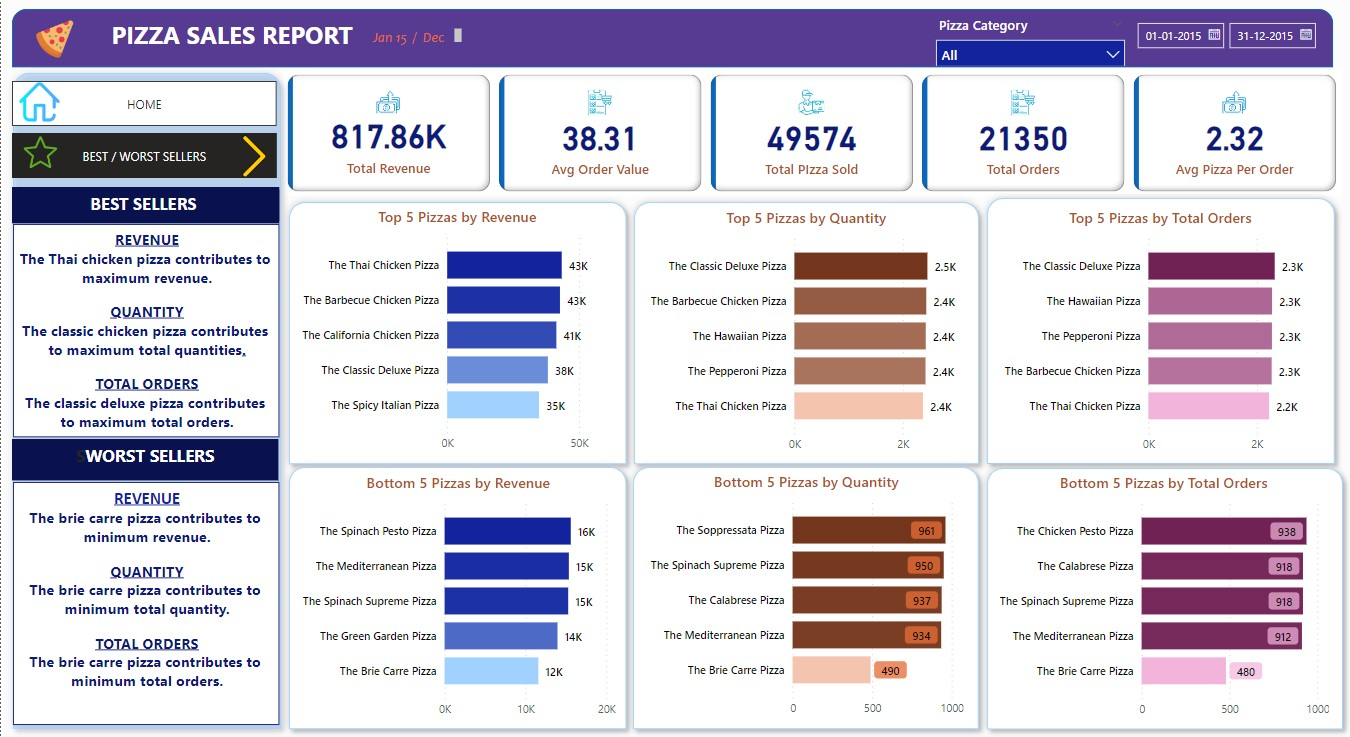

This screenshot's page, from the dashboard's own definition file:
{"tool":"powerbi","page":{"name":"BEST / WORST SELLERS ","canvas":[1500,820],"ordinal":1},"visuals":[{"type":"cardVisual","fields":{"Data":["pizza_sales.Total Revenue","pizza_sales.Avg Order Value","pizza_sales.Total PIzza Sold","pizza_sales.Total Orders","pizza_sales.Avg Pizza Per Order"]},"box":[313.4,77.3,1177.3,140.2],"z":0},{"type":"shape","box":[12.4,10.3,1468,64.9],"z":1000},{"type":"textbox","box":[118,14,345,55],"z":2000},{"type":"textbox","box":[408,27,109,32],"z":3000},{"type":"image","box":[30.9,16.5,56.7,52.6],"z":4000},{"type":"shape","box":[311.3,215.5,392.8,309.3],"z":5000},{"type":"shape","box":[4.1,72.2,315.5,746.4],"z":6000},{"type":"textbox","box":[12.4,211.3,296.9,37.1],"z":7000},{"type":"textbox","box":[13.4,248.5,295.9,237.1],"z":8000},{"type":"textbox","box":[12.4,487.6,295.9,46.4],"z":9000},{"type":"textbox","box":[12.4,208.2,296.9,37.1],"z":10000},{"type":"textbox","box":[13.4,535.1,295.9,270.1],"z":11000},{"type":"slicer","fields":{"Values":["pizza_sales.pizza_category"]},"box":[1029,12,230,61],"z":12000},{"type":"slicer","fields":{"Values":["pizza_sales.order_date"]},"box":[1250,16,218,53],"z":13000},{"type":"shape","box":[694.8,215.5,401,309.3],"z":14000},{"type":"shape","box":[1086.6,211.3,404.1,313.4],"z":15000},{"type":"shape","box":[311.3,510.3,392.8,309.3],"z":16000},{"type":"shape","box":[693.8,510.3,402.1,309.3],"z":17000},{"type":"shape","box":[1086.6,511.3,413.4,308.2],"z":18000},{"type":"barChart","title":"Top 5 Pizzas by Revenue","fields":{"Category":["pizza_sales.pizza_name"],"Y":["pizza_sales.Total Revenue"]},"box":[327.8,229.9,358.8,280.4],"z":19000},{"type":"barChart","title":"Bottom 5 Pizzas by Revenue","fields":{"Category":["pizza_sales.pizza_name"],"Y":["pizza_sales.Total Revenue"]},"box":[328.9,525.8,358.8,280.4],"z":20000},{"type":"barChart","title":"Top 5 Pizzas by Quantity","fields":{"Category":["pizza_sales.pizza_name"],"Y":["pizza_sales.Total PIzza Sold"]},"box":[715.5,230.9,358.8,280.4],"z":21000},{"type":"barChart","title":"Bottom 5 Pizzas by Quantity","fields":{"Category":["pizza_sales.pizza_name"],"Y":["pizza_sales.Total PIzza Sold"]},"box":[715.5,524.7,358.8,280.4],"z":22000},{"type":"barChart","title":"Top 5 Pizzas by Total Orders","fields":{"Category":["pizza_sales.pizza_name"],"Y":["pizza_sales.Total Orders"]},"box":[1109.3,230.9,358.8,280.4],"z":23000},{"type":"barChart","title":"Bottom 5 Pizzas by Total Orders","fields":{"Category":["pizza_sales.pizza_name"],"Y":["pizza_sales.Total Orders"]},"box":[1103.1,525.8,377.3,280.4],"z":24000},{"type":"pageNavigator","box":[12.4,147.4,294.8,50.5],"z":25000},{"type":"pageNavigator","box":[12.4,89.7,294.8,50.5],"z":26000},{"type":"image","box":[253.6,145.4,55.7,55.7],"z":27000},{"type":"image","box":[13.4,145.4,59.8,47.4],"z":28000},{"type":"image","box":[12.4,85.6,60.8,54.6],"z":29000}]}

Visuals, with their boxes in screenshot pixels (x1, y1, x2, y2), scaled from the page's 1500x820 canvas onto the 1350x737 screenshot:
cardVisual - pizza_sales.Total Revenue x pizza_sales.Avg Order Value: 282,69,1342,195
shape: 11,9,1332,68
textbox: 106,13,417,62
textbox: 367,24,465,53
image: 28,15,79,62
shape: 280,194,634,472
shape: 4,65,288,736
textbox: 11,190,278,223
textbox: 12,223,278,436
textbox: 11,438,277,480
textbox: 11,187,278,220
textbox: 12,481,278,724
slicer - pizza_sales.pizza_category: 926,11,1133,66
slicer - pizza_sales.order_date: 1125,14,1321,62
shape: 625,194,986,472
shape: 978,190,1342,472
shape: 280,459,634,736
shape: 624,459,986,736
shape: 978,460,1349,736
"Top 5 Pizzas by Revenue" barChart: 295,207,618,459
"Bottom 5 Pizzas by Revenue" barChart: 296,473,619,725
"Top 5 Pizzas by Quantity" barChart: 644,208,967,460
"Bottom 5 Pizzas by Quantity" barChart: 644,472,967,724
"Top 5 Pizzas by Total Orders" barChart: 998,208,1321,460
"Bottom 5 Pizzas by Total Orders" barChart: 993,473,1332,725
pageNavigator: 11,132,276,178
pageNavigator: 11,81,276,126
image: 228,131,278,181
image: 12,131,66,173
image: 11,77,66,126
